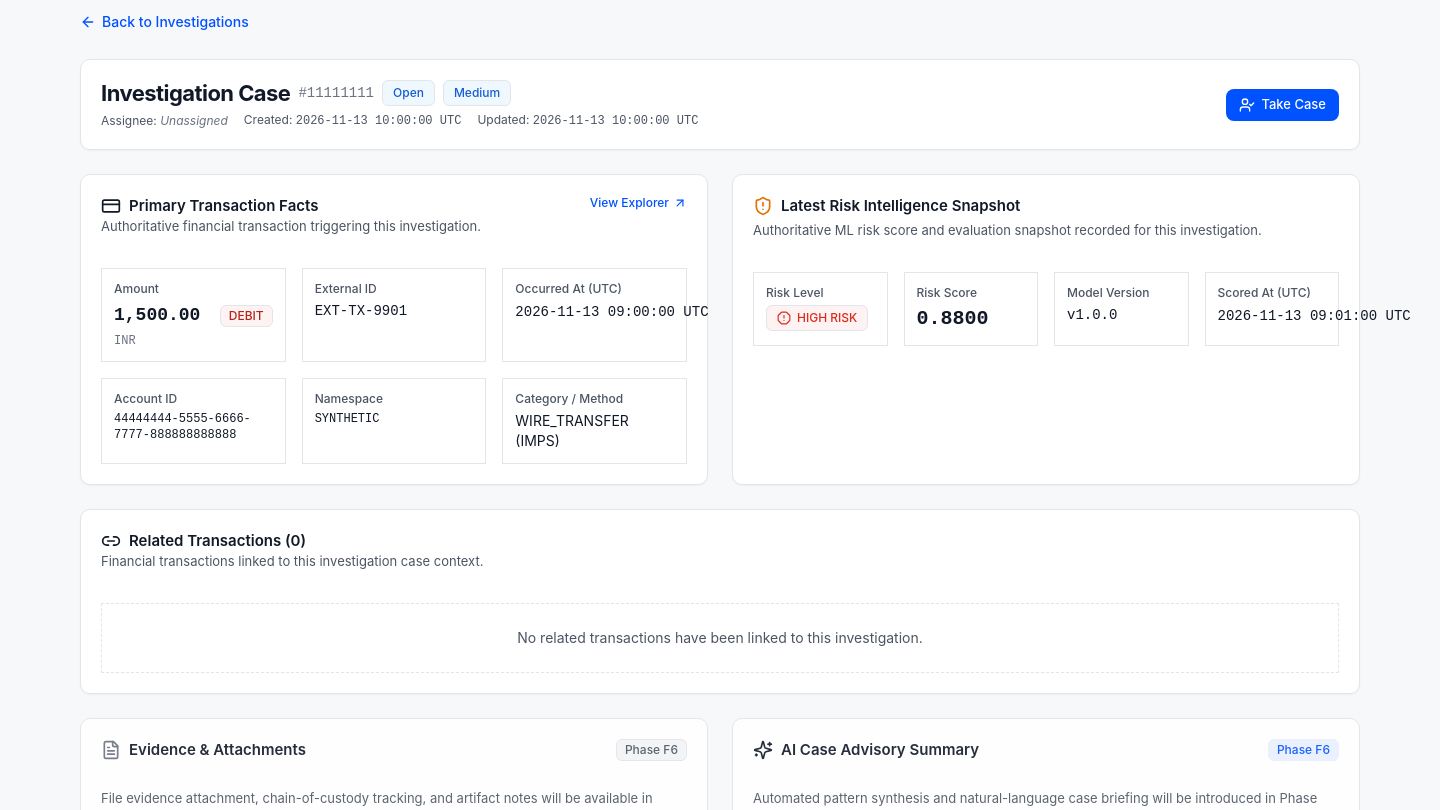
Test: InvestigationWorkspacePage component (F5.5–F5.6) › handles concurrency conflict (HTTP 409) with informative banner
Click the button with test id "take-case-button" at [1283, 104], box [1226,88,1339,120]
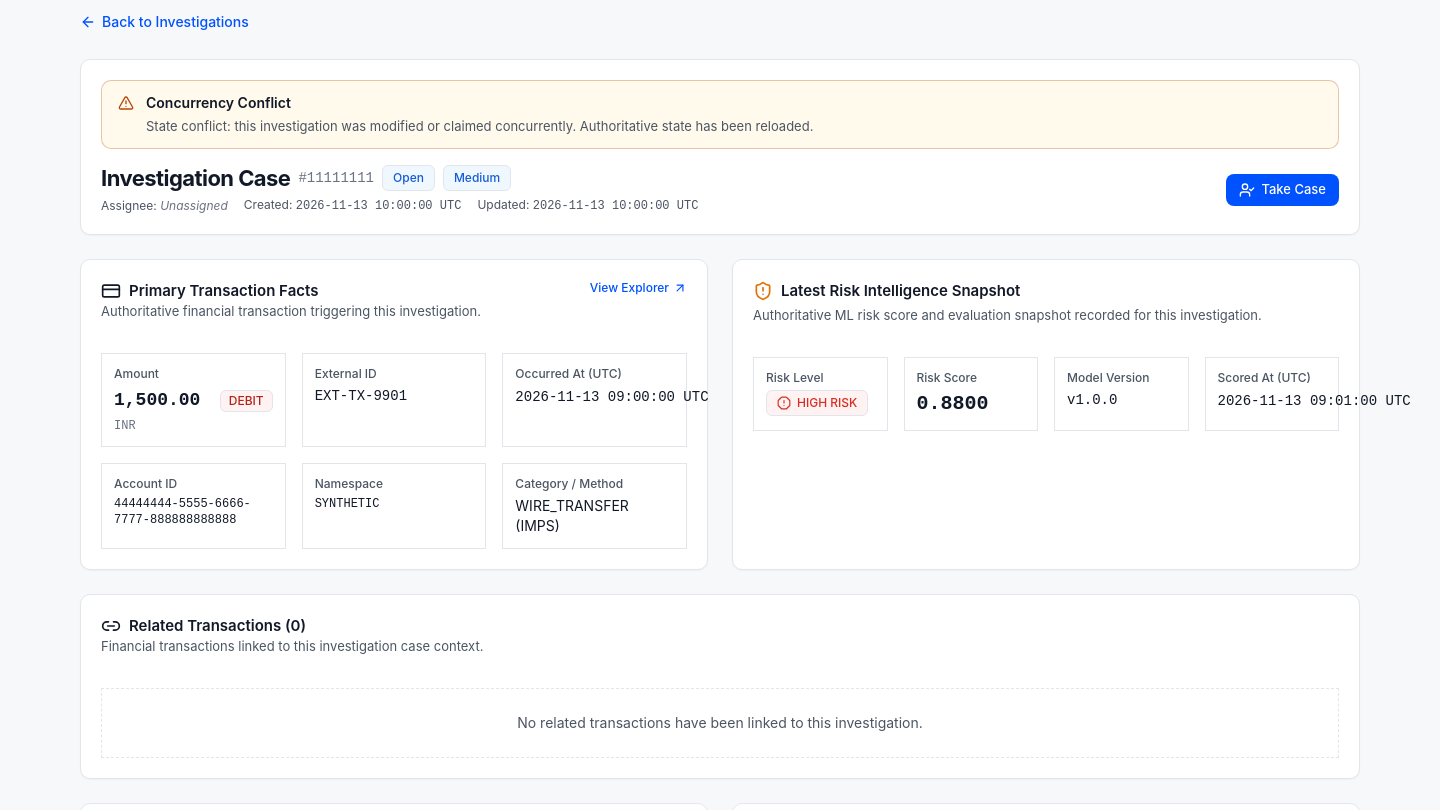
Now the text "Concurrency Conflict" is shown, box [146,94,291,111]
